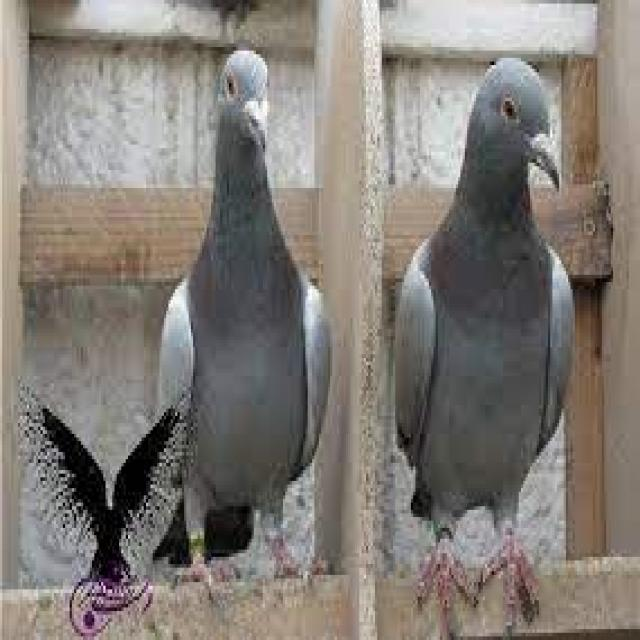bird: (390, 52, 578, 639), (149, 48, 336, 581)
